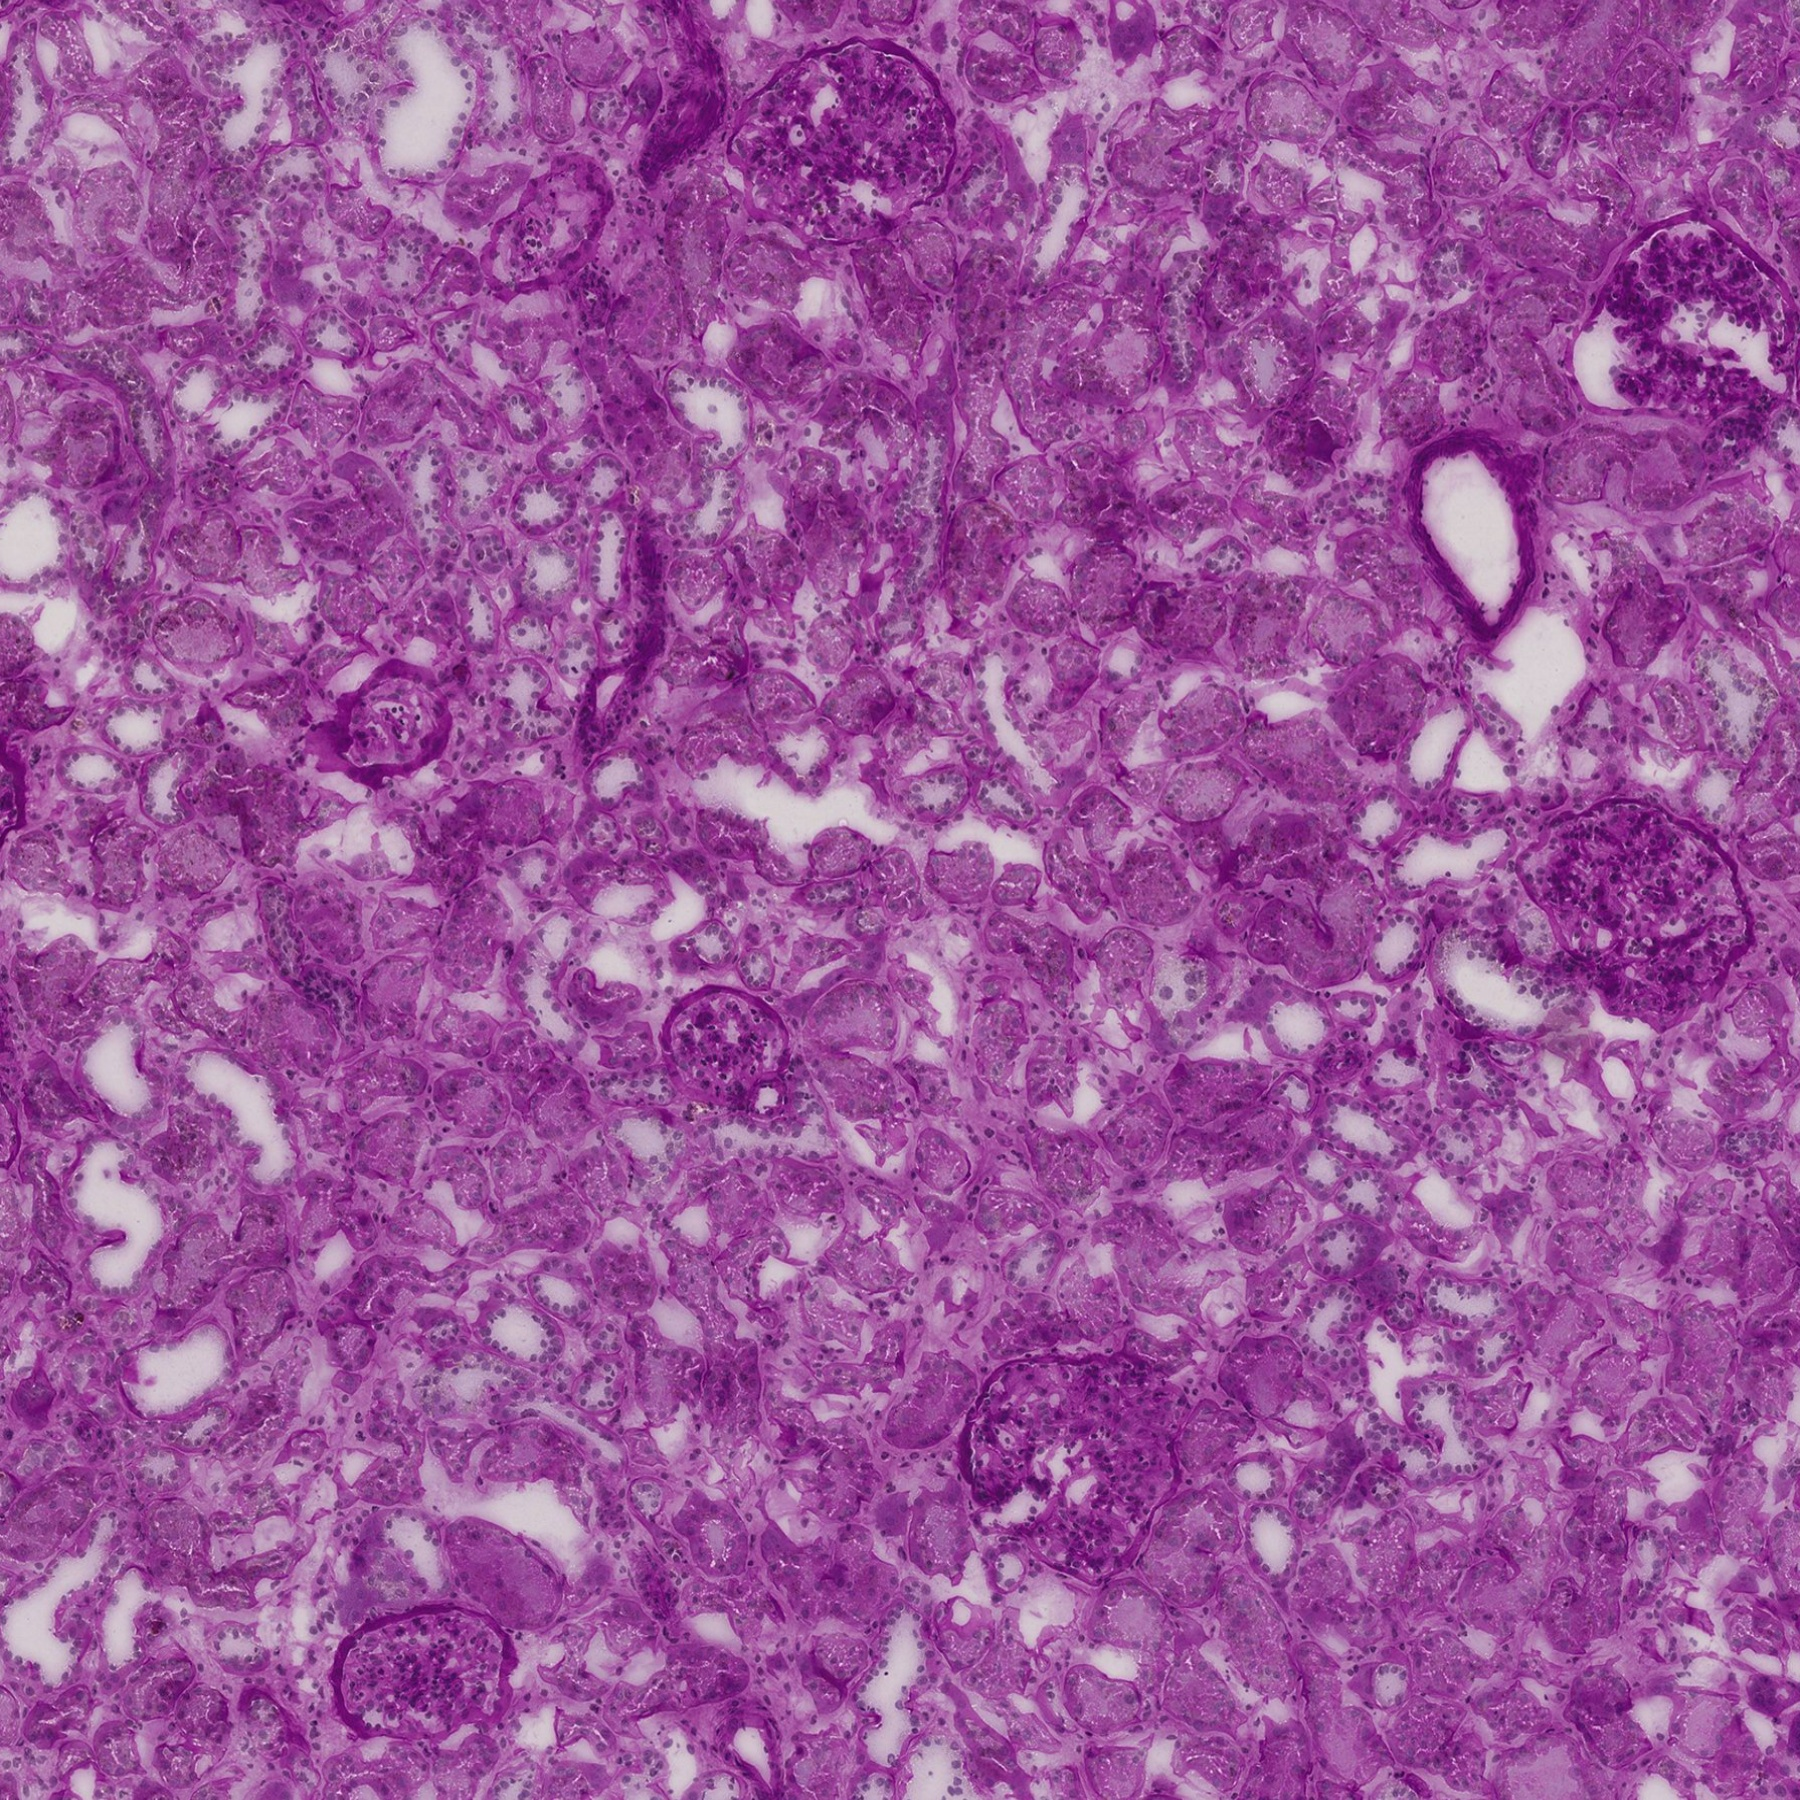Glomeruli: (1518, 791, 1760, 1032), (956, 1352, 1180, 1591), (1566, 209, 1798, 425), (730, 40, 956, 255), (326, 1605, 513, 1742), (656, 984, 799, 1119)
